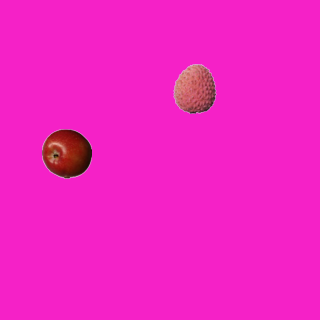Apple Braeburn: (41, 128, 91, 178)
Lychee: (169, 63, 219, 113)
